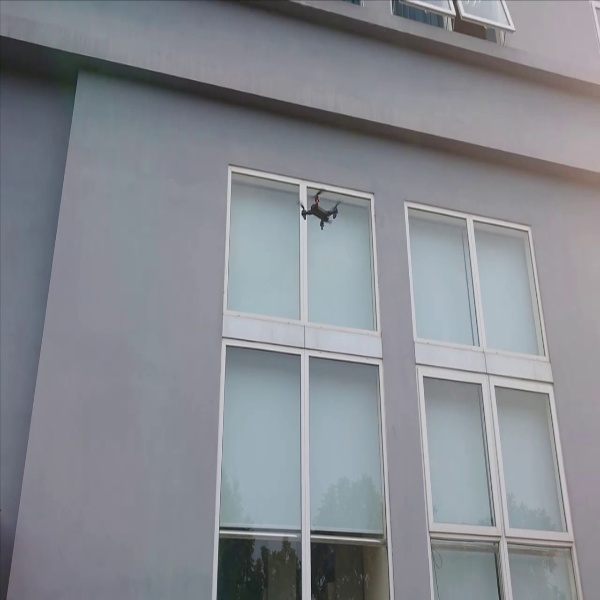drone: (298, 187, 347, 231)
